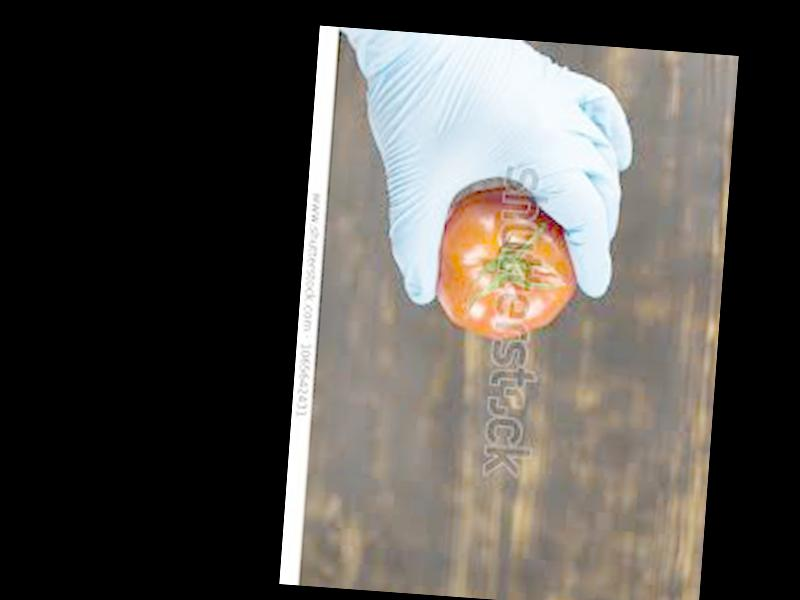Tomato: (431, 181, 583, 346)
